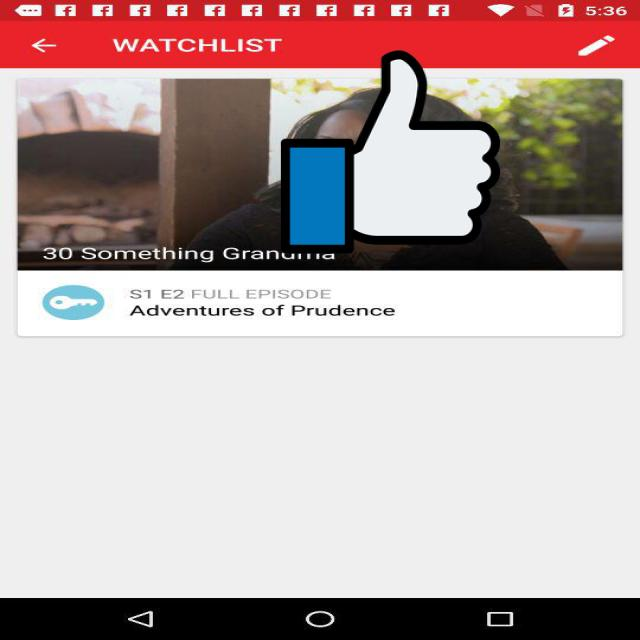privacy zuckering: (281, 46, 500, 258)
